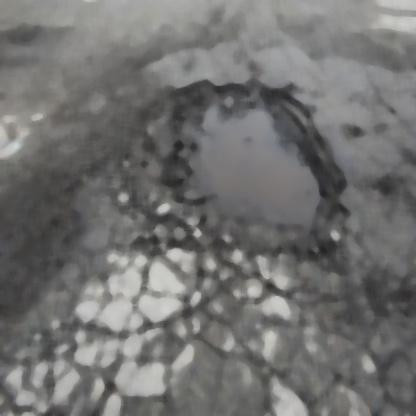Potholes: (165, 73, 334, 249)
